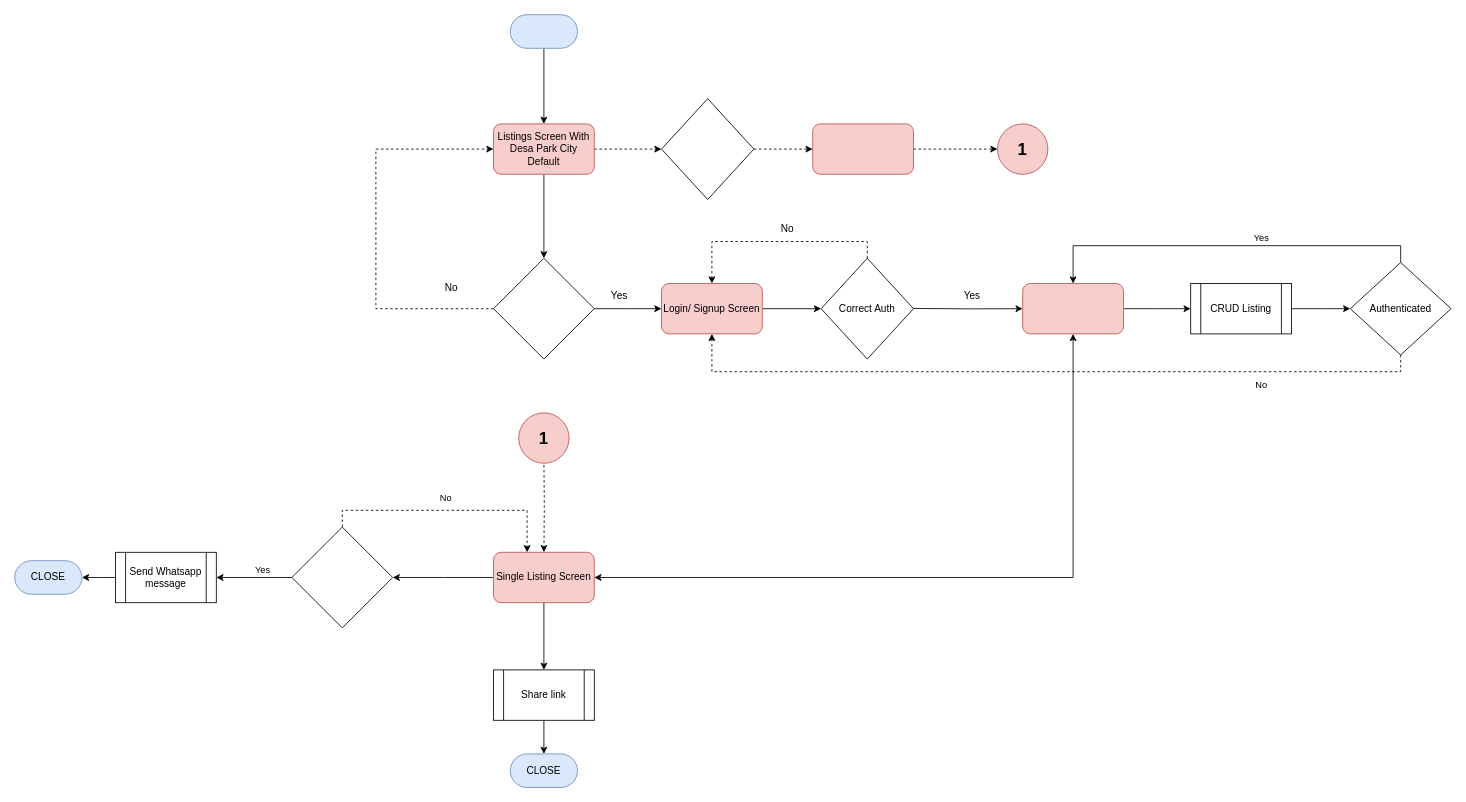
This 1466x802 diagram has some shape labels left out. The shapes that lost their labels are listed below. From the top down, each one's centre as x and y in pixels, then its label:
At point 543,31: "ENTER".
At point 707,149: "Home Button Pressed".
At point 863,148: "Listings Screen".
At point 543,308: "Login as agent clicked?".
At point 1073,308: "Agent Profile/ Listings Screen".
At point 342,577: "Entered as visitor".
